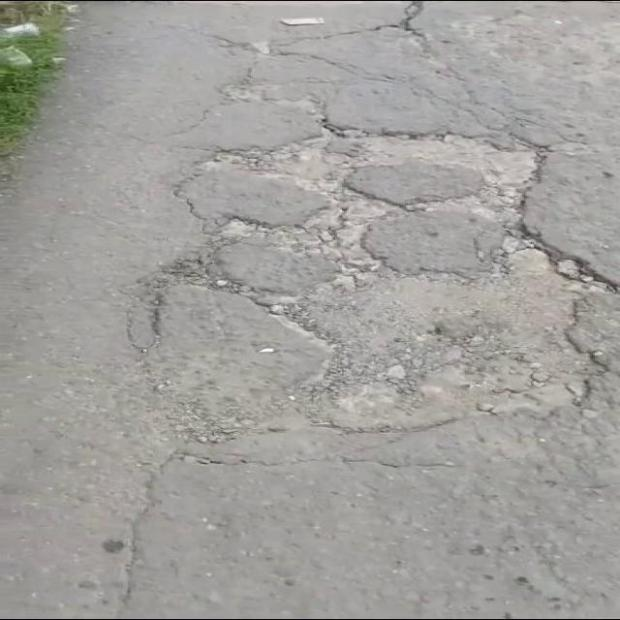lubang: (143, 129, 581, 442)
